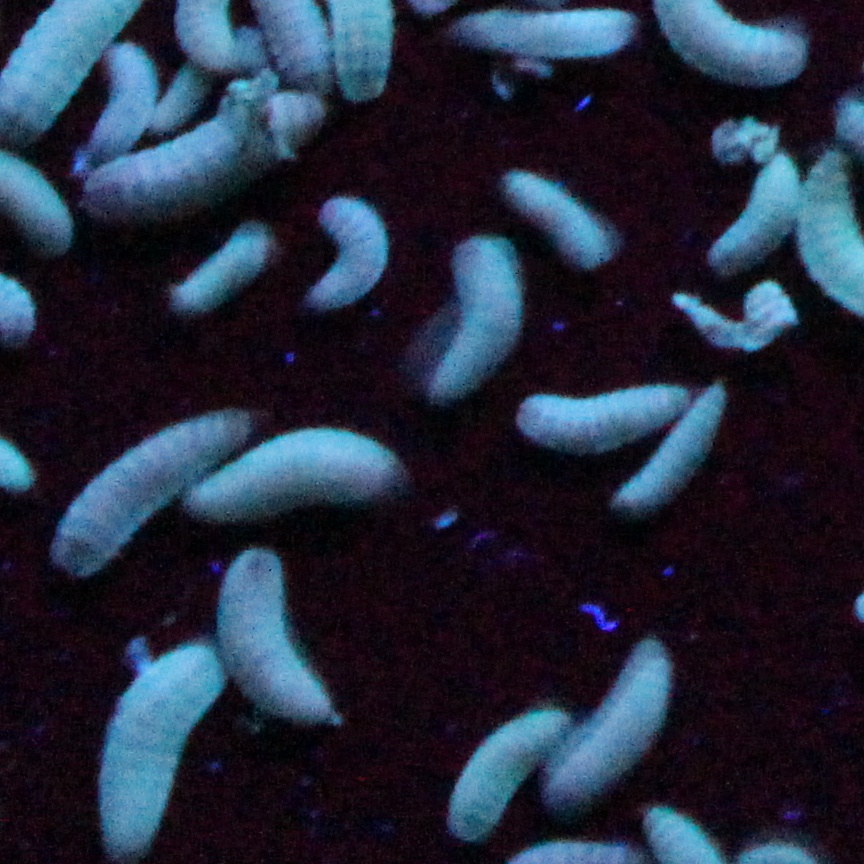larve: (56, 414, 245, 572), (87, 643, 219, 856), (93, 104, 300, 237), (190, 425, 412, 521), (216, 548, 332, 723), (556, 636, 672, 796), (441, 230, 523, 412), (447, 712, 561, 841), (618, 392, 727, 519), (516, 394, 694, 452), (505, 170, 614, 263), (310, 196, 390, 316), (445, 16, 632, 61), (174, 221, 263, 314), (714, 152, 785, 268)
